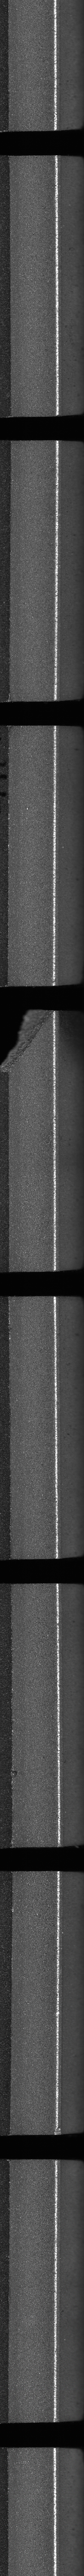Chip: (0, 1005, 58, 1079)
